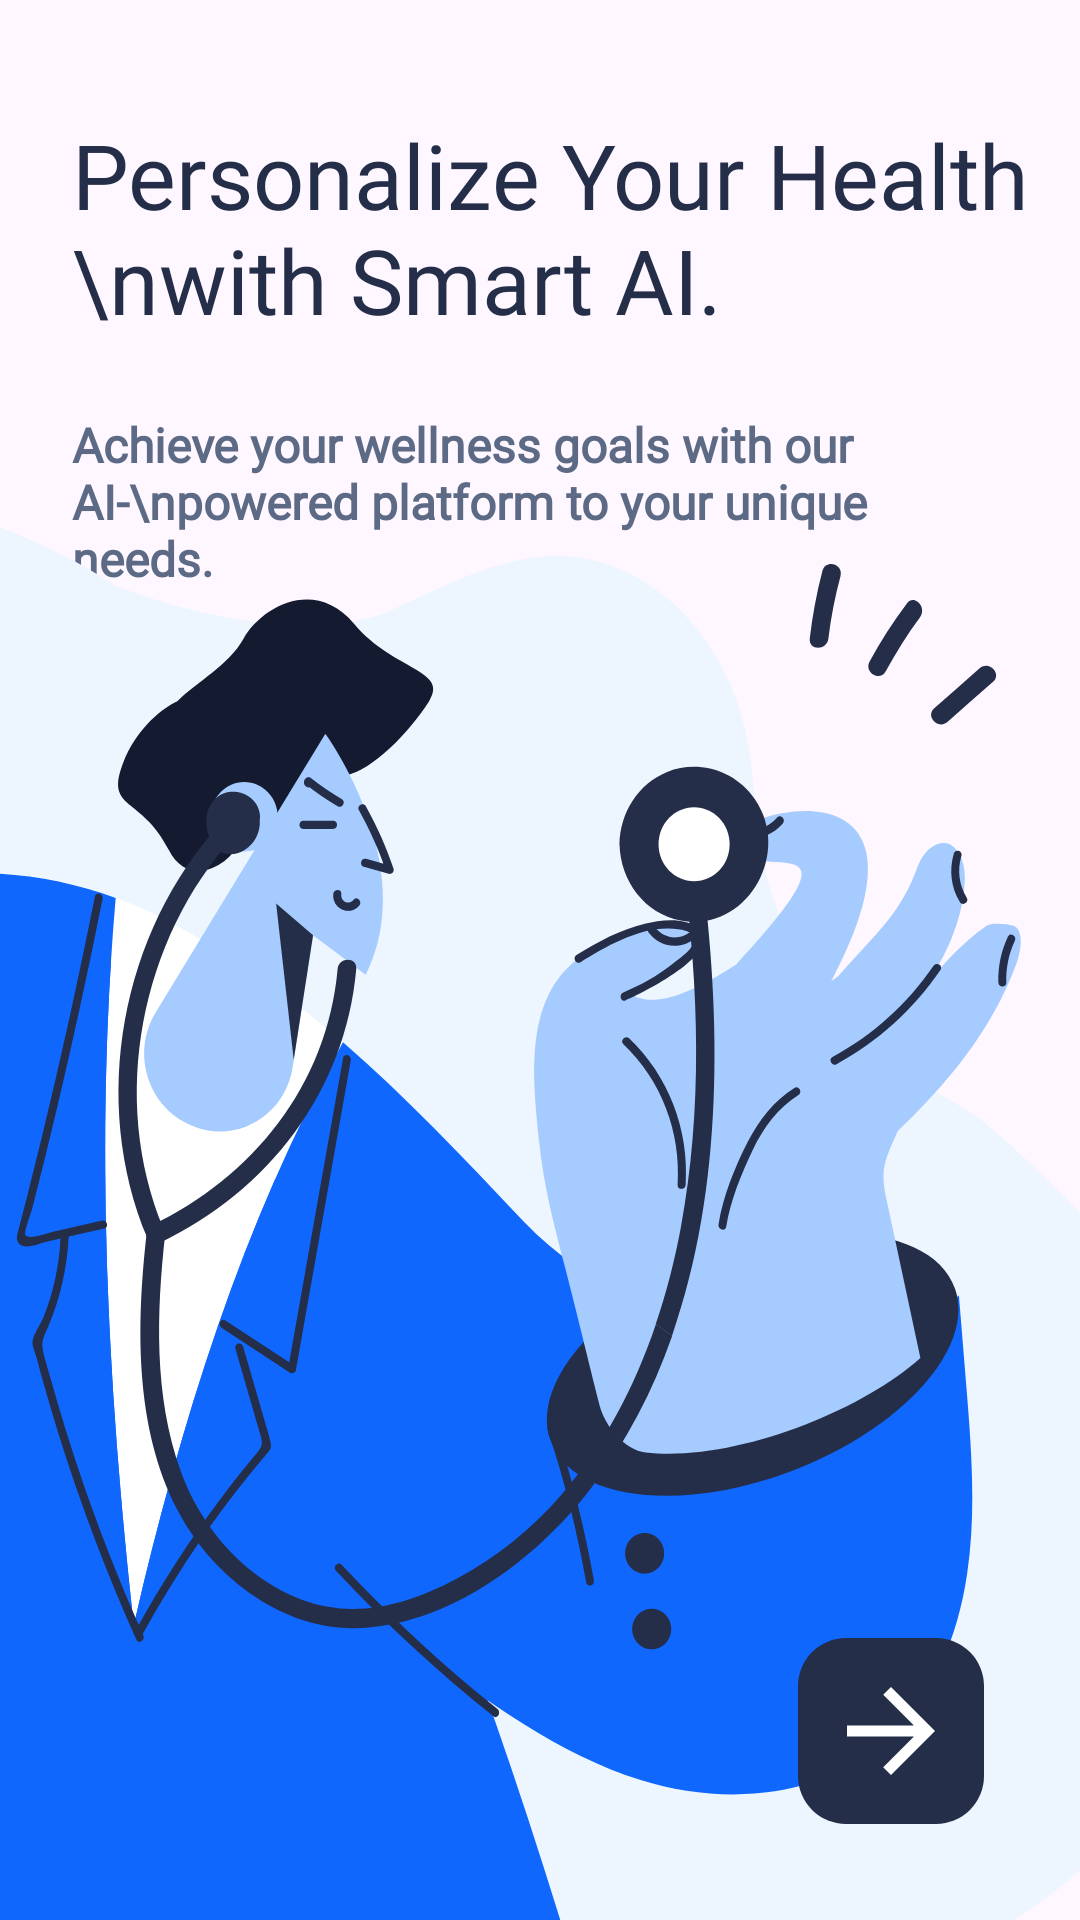

Where to tap for icons on this 1080×1920 app screen, as (x=x, y=y):
next: (x=891, y=1731)
